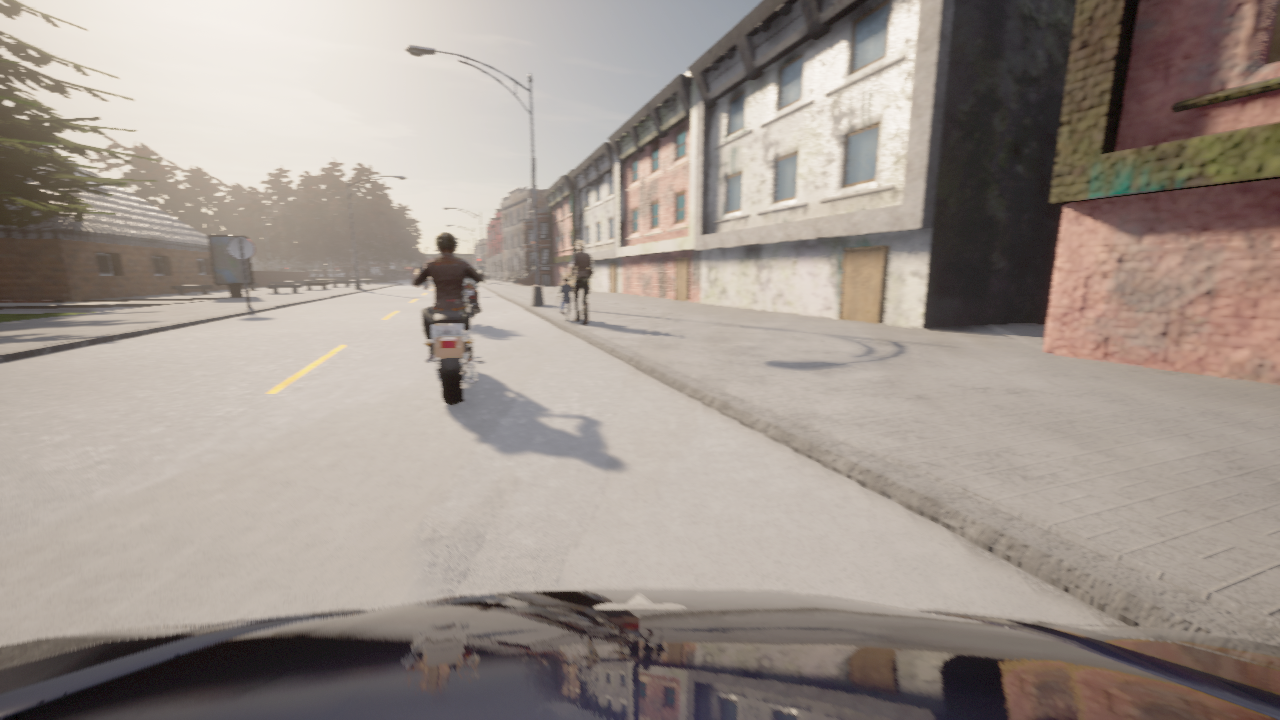cyclist: (0, 588, 1279, 719), (414, 268, 486, 405), (464, 283, 477, 318)
pedestrian: (570, 241, 592, 323), (556, 276, 572, 321)
